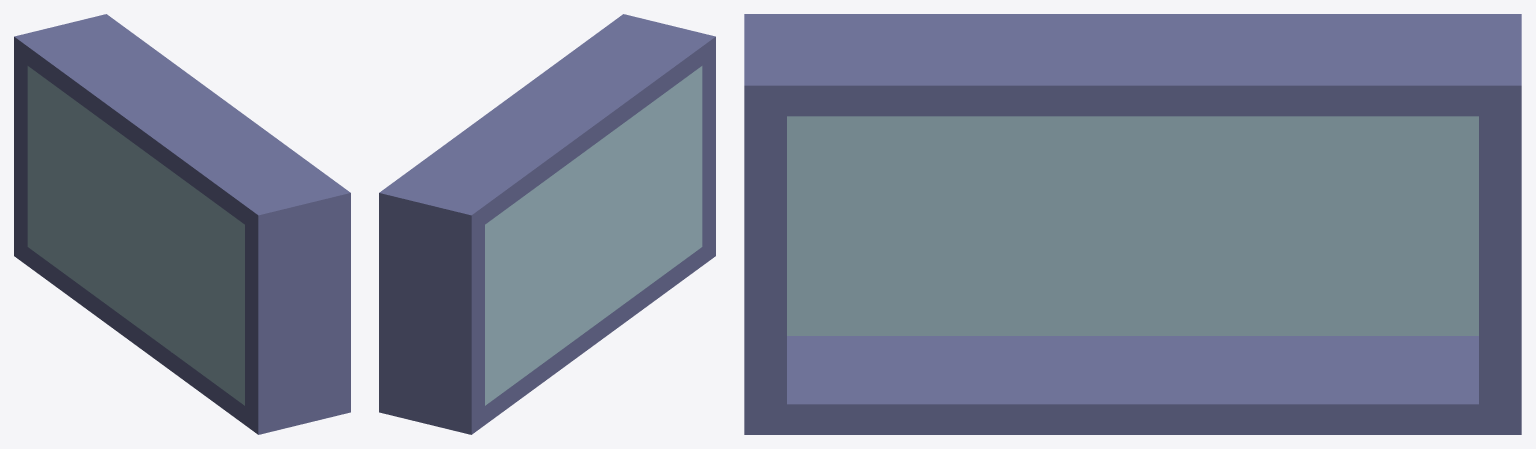
The model's file is Window_3.fbx.
3 views of the same model, side by side, from view 1: azimuth 30°, elevation 25°; view 2: azimuth 150°, elevation 25°; view 3: azimuth 270°, elevation 25° (orthographic). The views are drawn at different scales.
Parts seen in each view (by area): view 1: Window_3; view 2: Window_3; view 3: Window_3.
Boxes of the visible parts, bbox=[...] form: Window_3: bbox=[14, 14, 350, 434]; Window_3: bbox=[379, 14, 715, 434]; Window_3: bbox=[744, 14, 1521, 434].
Bounding box in the file's own units: 74.15 × 339 × 168.
